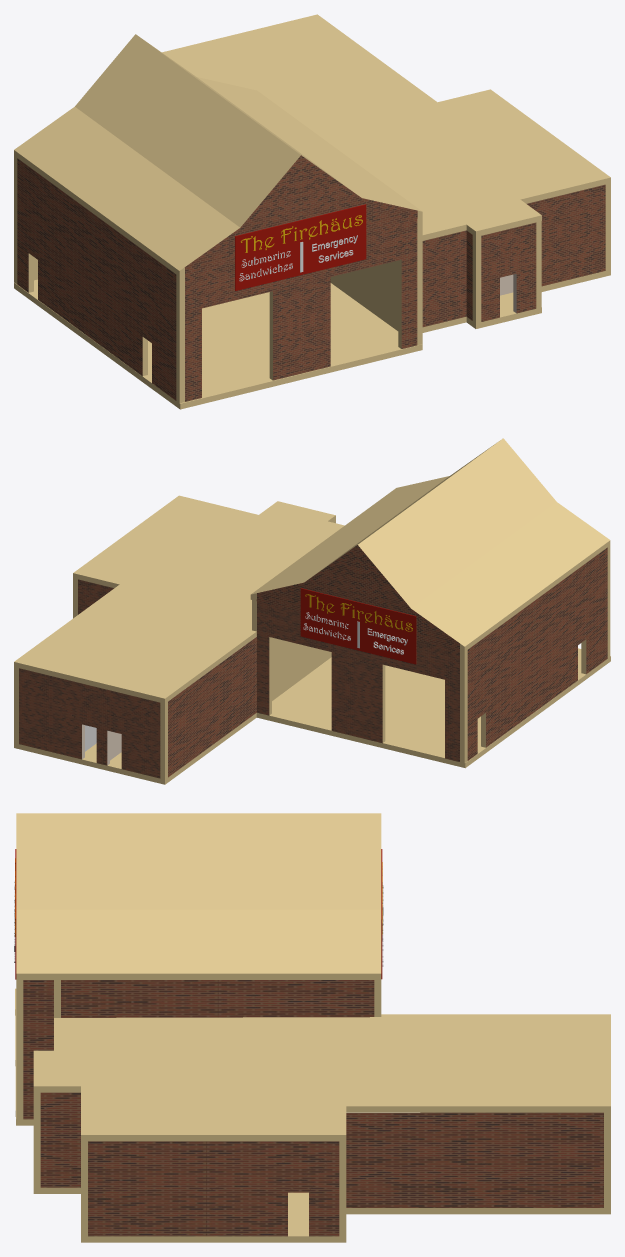
Rendered from Firehouse.glb.
The picture shows the model from 3 angles, top to bottom: view 1: azimuth 30°, elevation 25°; view 2: azimuth 150°, elevation 25°; view 3: azimuth 270°, elevation 25°; orthographic projection. The views are drawn at different scales.
Parts seen in each view (by area): view 1: Cube, Roof, Roof2, Floor, Sign; view 2: Cube, Roof, Roof2, Floor, Sign.001; view 3: Cube, Roof2, Roof, Floor.
Part boxes in pixels (left/top/right/bottom): Cube: left=14, top=156, right=610, bottom=403; Roof: left=14, top=34, right=422, bottom=276; Roof2: left=162, top=14, right=610, bottom=240; Floor: left=14, top=269, right=610, bottom=409; Sign: left=235, top=204, right=366, bottom=290; Cube: left=14, top=520, right=610, bottom=779; Roof: left=250, top=438, right=610, bottom=651; Roof2: left=14, top=495, right=344, bottom=703; Floor: left=14, top=648, right=610, bottom=784; Sign.001: left=300, top=588, right=416, bottom=664; Cube: left=16, top=980, right=610, bottom=1236; Roof2: left=33, top=1014, right=610, bottom=1141; Roof: left=16, top=813, right=381, bottom=979; Floor: left=15, top=988, right=610, bottom=1242.
Size of the model in its own units: 25.56 by 11.88 by 26.01.
8 materials, 1 textured.
